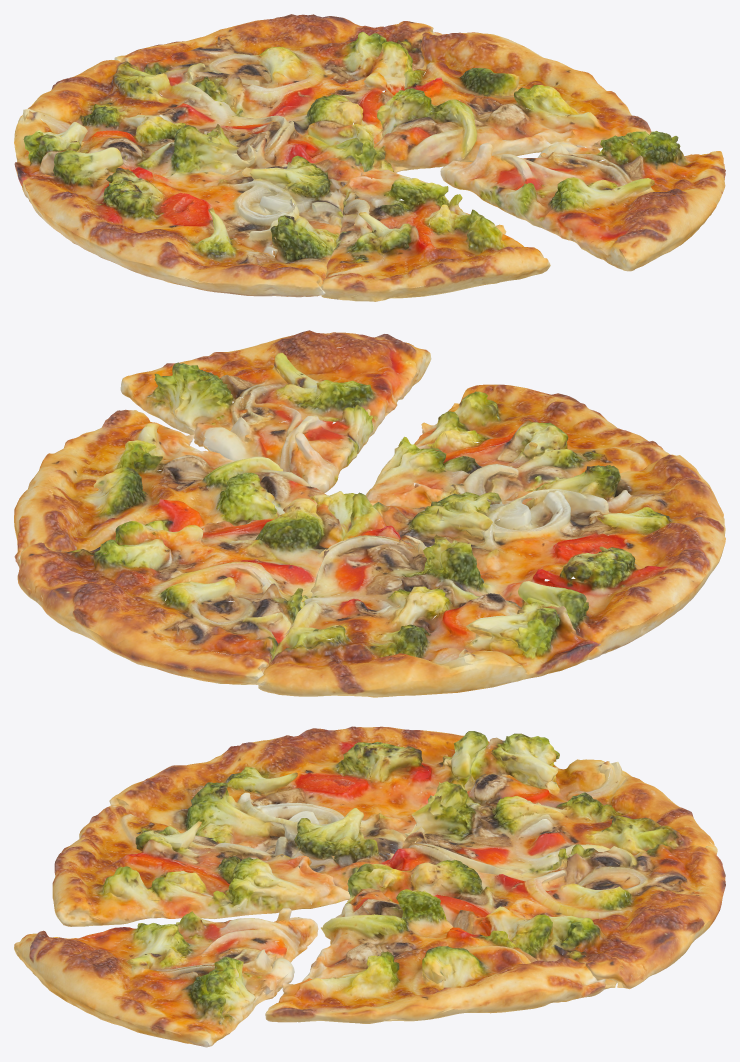
The model's file is pizza.glb.
The picture shows the model from 3 angles, top to bottom: view 1: azimuth 30°, elevation 25°; view 2: azimuth 150°, elevation 25°; view 3: azimuth 270°, elevation 25°; orthographic projection. The views are drawn at different scales.
Visible parts, largest first — view 1: FrontSide_0 (×6); view 2: FrontSide_0 (×6); view 3: FrontSide_0 (×6).
Boxes of the visible parts, left/top/right/bottom form: FrontSide_0 (×6): left=14, top=14, right=725, bottom=301; FrontSide_0 (×6): left=14, top=330, right=725, bottom=697; FrontSide_0 (×6): left=14, top=726, right=725, bottom=1047.
Size of the model in its own units: 1.96 by 0.1749 by 1.99.
Materials: 6 (6 with a texture image).
